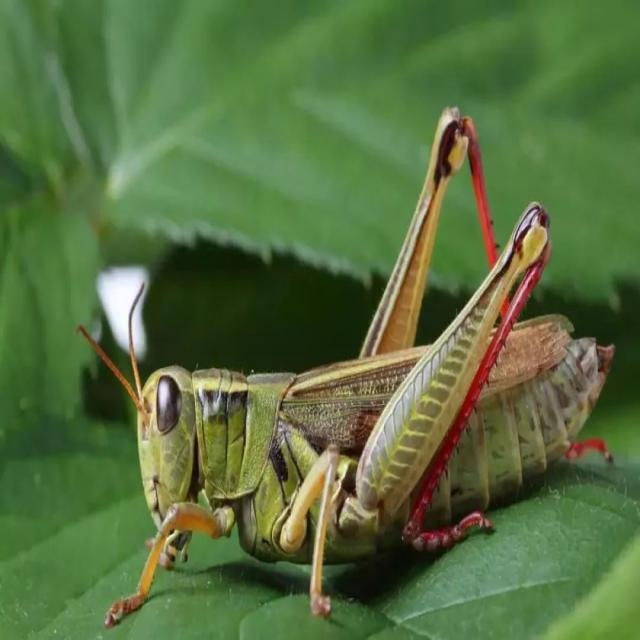ZhaMeng: (99, 91, 616, 615)
